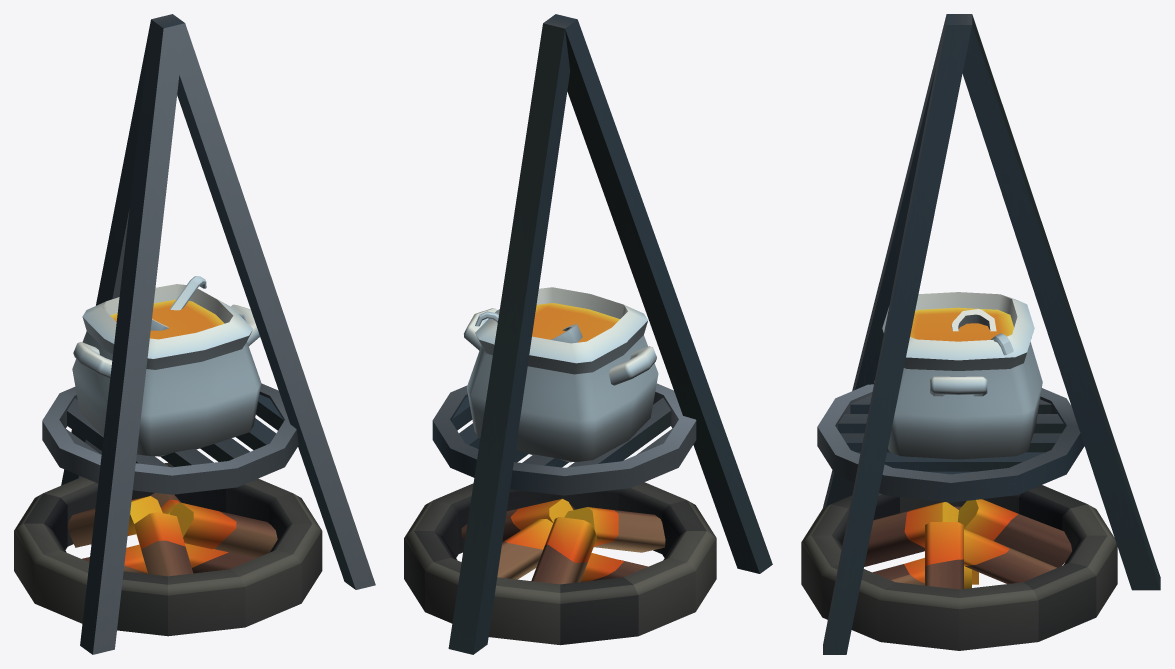
The model's file is fire_pit_grill_pot_soup.fbx.
The picture shows the model from 3 angles, left to right: view 1: azimuth 30°, elevation 25°; view 2: azimuth 150°, elevation 25°; view 3: azimuth 270°, elevation 25°; orthographic projection. The views are drawn at different scales.
Visible parts, largest first — view 1: fire_pit_grill_pot_soup; view 2: fire_pit_grill_pot_soup; view 3: fire_pit_grill_pot_soup.
Part boxes in pixels (x1,y1,x2,y2): fire_pit_grill_pot_soup: (14, 14, 375, 654); fire_pit_grill_pot_soup: (404, 14, 772, 654); fire_pit_grill_pot_soup: (801, 14, 1160, 654).
Bounding box in the file's own units: 108 × 200 × 115.
